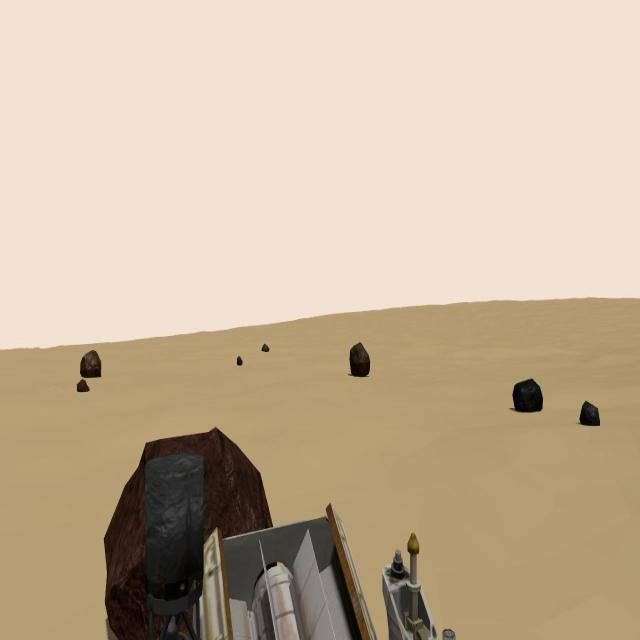rock: (104, 426, 273, 640), (511, 380, 543, 411), (350, 342, 370, 377), (79, 350, 101, 379), (580, 401, 600, 426), (76, 379, 89, 391), (236, 356, 242, 366), (262, 344, 268, 351)
